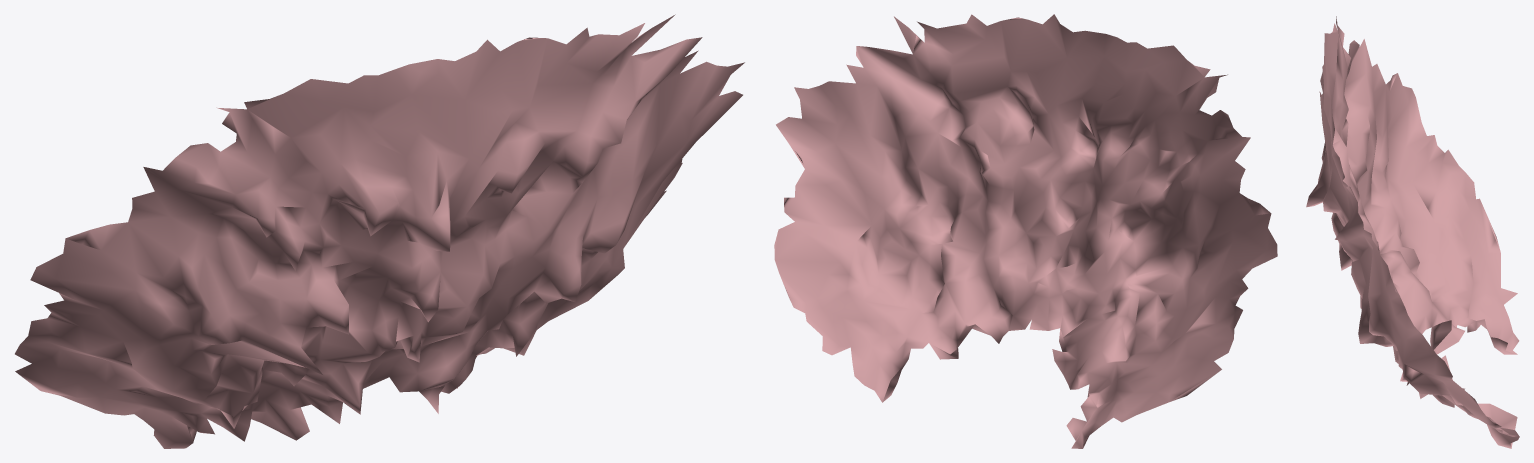
3 views of the same model, side by side, from view 1: azimuth 30°, elevation 25°; view 2: azimuth 150°, elevation 25°; view 3: azimuth 270°, elevation 25° (orthographic). The views are drawn at different scales.
Parts seen in each view (by area): view 1: ZA_db2626cd35083feb; view 2: ZA_db2626cd35083feb; view 3: ZA_db2626cd35083feb.
Part boxes in pixels (left/top/right/bottom): ZA_db2626cd35083feb: left=15, top=14, right=744, bottom=448; ZA_db2626cd35083feb: left=774, top=14, right=1277, bottom=448; ZA_db2626cd35083feb: left=1306, top=16, right=1519, bottom=448.
Bounding box in the file's own units: 0.1125 × 0.0715 × 0.0428.
